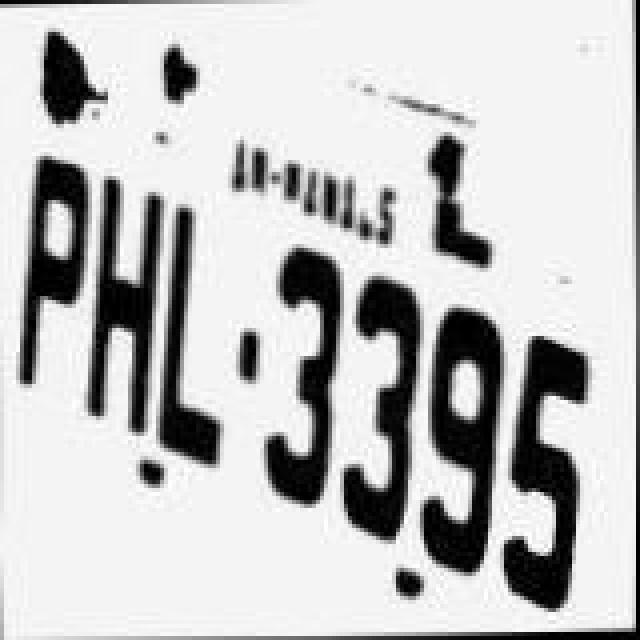3: (262, 240, 346, 516), (344, 266, 424, 542)
5: (504, 332, 600, 612)
9: (420, 306, 508, 582)
H: (86, 172, 166, 444)
L: (162, 192, 234, 464)
P: (14, 156, 94, 396)
